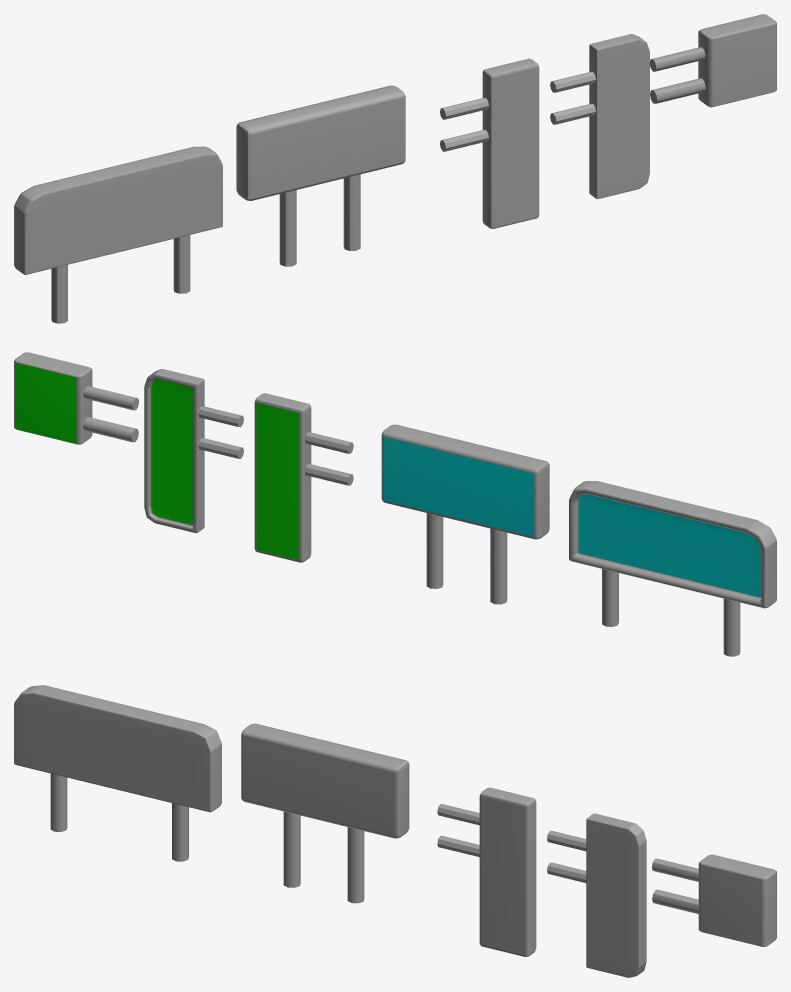
The model's file is MDL_Buildings_Signs.fbx.
The picture shows the model from 3 angles, top to bottom: view 1: azimuth 30°, elevation 25°; view 2: azimuth 150°, elevation 25°; view 3: azimuth 330°, elevation 25°; orthographic projection.
Visible parts, largest first — view 1: Sign_04, Sign_01, Sign_03, Sign_02, Sign_05; view 2: Sign_04, Sign_01, Sign_03, Sign_02, Sign_05; view 3: Sign_04, Sign_01, Sign_03, Sign_02, Sign_05.
Boxes of the visible parts, x1=… form: Sign_04: x1=14, y1=146, x2=222, y2=323; Sign_01: x1=236, y1=85, x2=405, y2=266; Sign_03: x1=550, y1=34, x2=649, y2=199; Sign_02: x1=440, y1=58, x2=539, y2=228; Sign_05: x1=650, y1=14, x2=776, y2=107; Sign_04: x1=569, y1=481, x2=776, y2=656; Sign_01: x1=381, y1=424, x2=549, y2=604; Sign_03: x1=144, y1=369, x2=243, y2=533; Sign_02: x1=254, y1=393, x2=353, y2=562; Sign_05: x1=14, y1=352, x2=138, y2=444; Sign_04: x1=14, y1=685, x2=221, y2=861; Sign_01: x1=241, y1=723, x2=409, y2=903; Sign_03: x1=547, y1=813, x2=646, y2=977; Sign_02: x1=437, y1=787, x2=536, y2=956; Sign_05: x1=652, y1=854, x2=776, y2=946.
Size of the model in its own units: 405 by 80.92 by 14.35.
